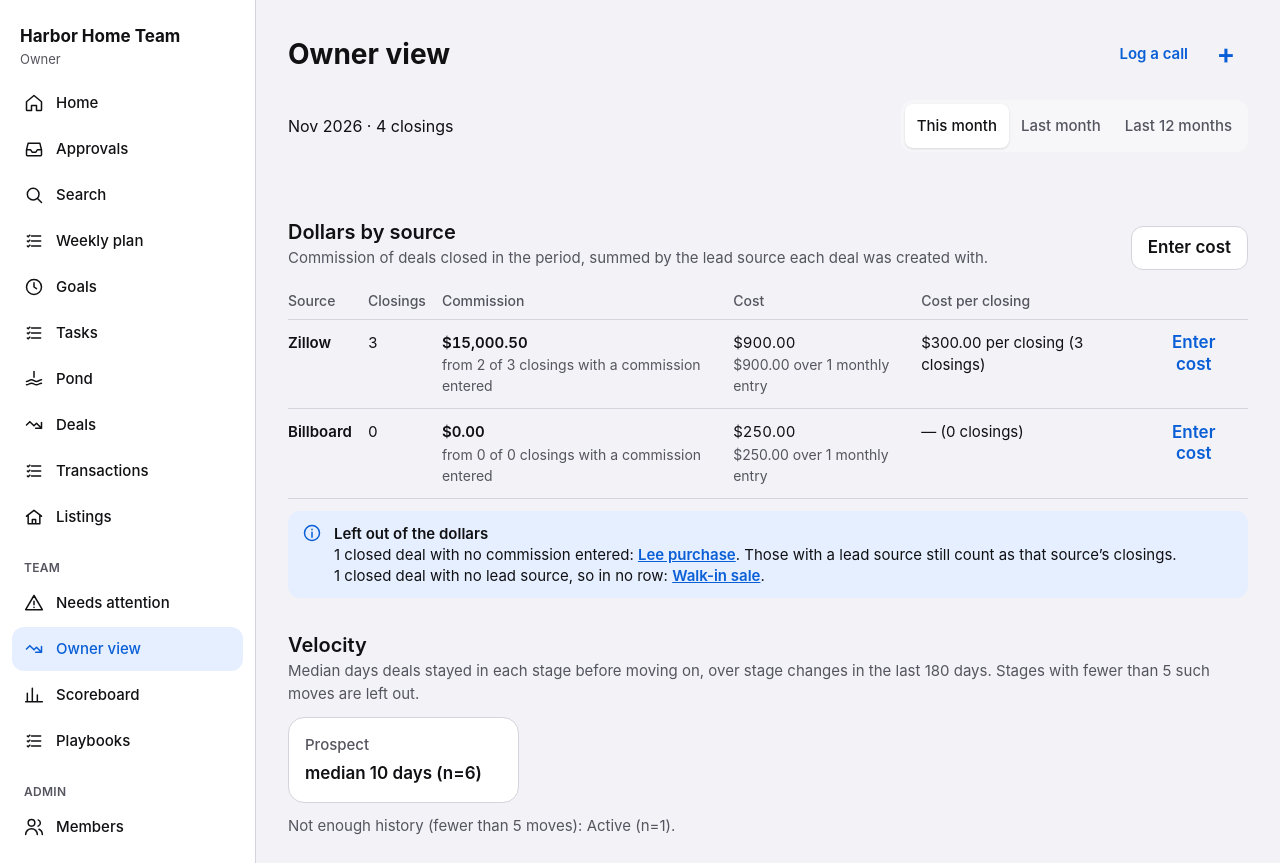
it: Owner view › R-OWNER-5: Enter cost saves the amount in cents for the chosen month and says so; a future month is said in words
Expected: the table is shown, [288, 282, 1248, 498]
Click the button with aria-label "Enter cost for Zillow" at (1194, 354), box [1140, 332, 1248, 376]
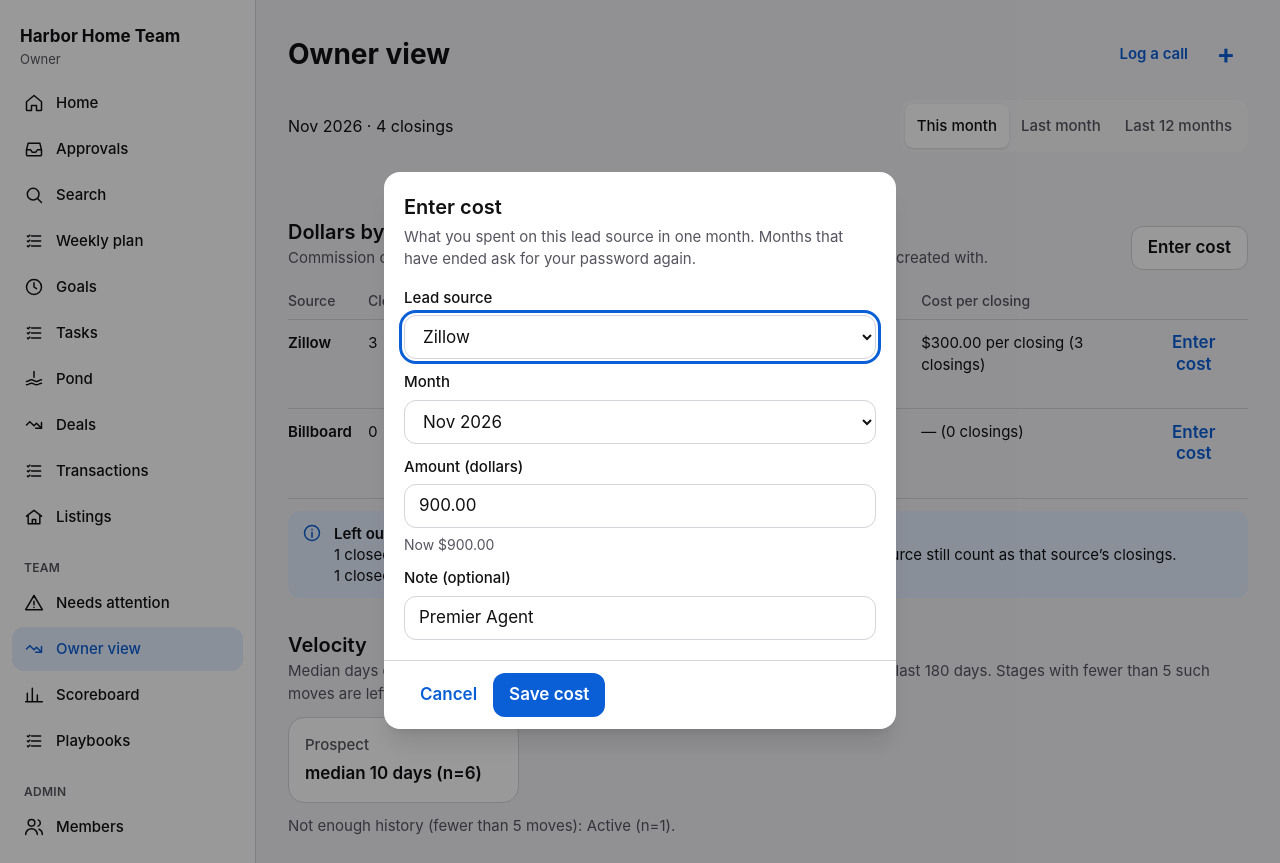
Expected: the field labelled "Amount (dollars)" holds "900.00"
Replace the text in the field labelled "Amount (dollars)" with "1,234.56" at (640, 506), box [404, 484, 876, 528]
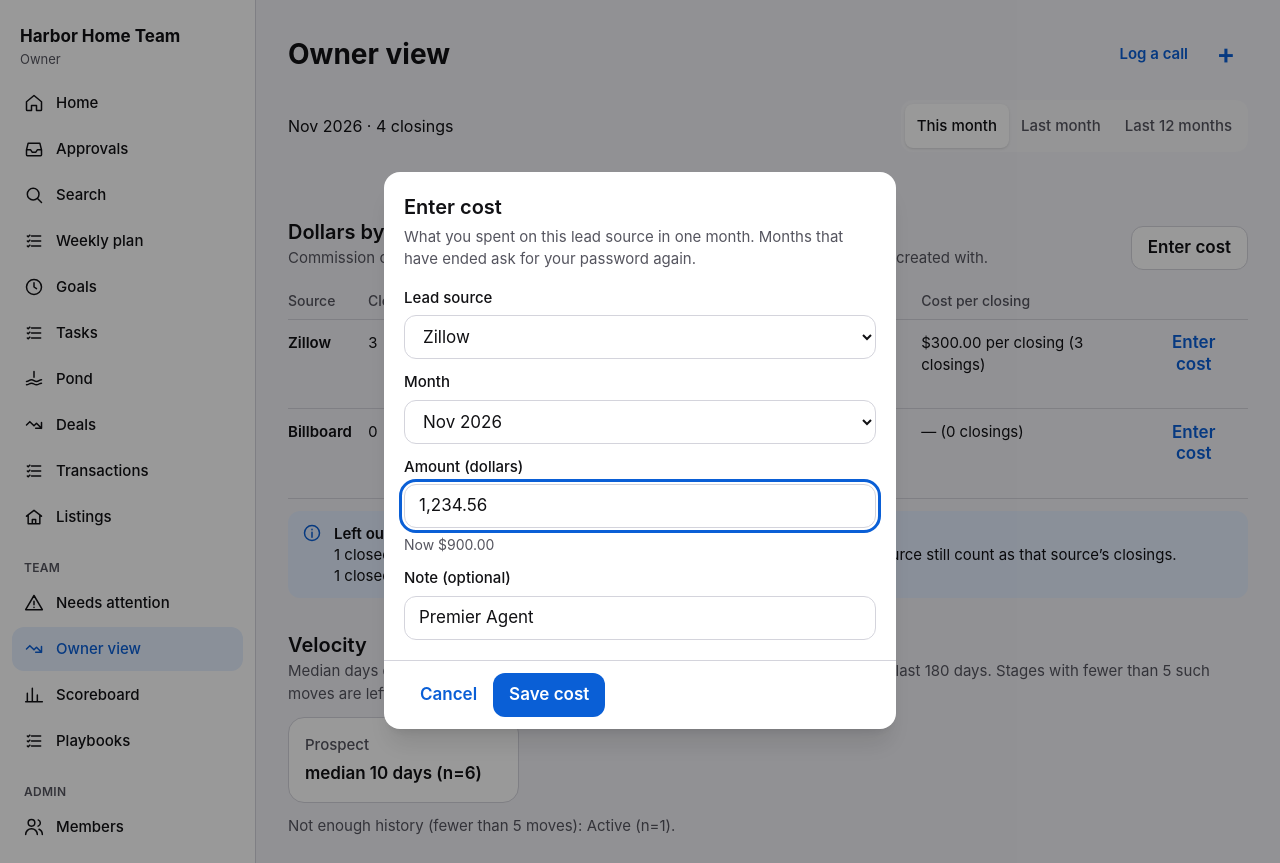
Click the button "Save cost" at (549, 694), box [493, 672, 605, 716]
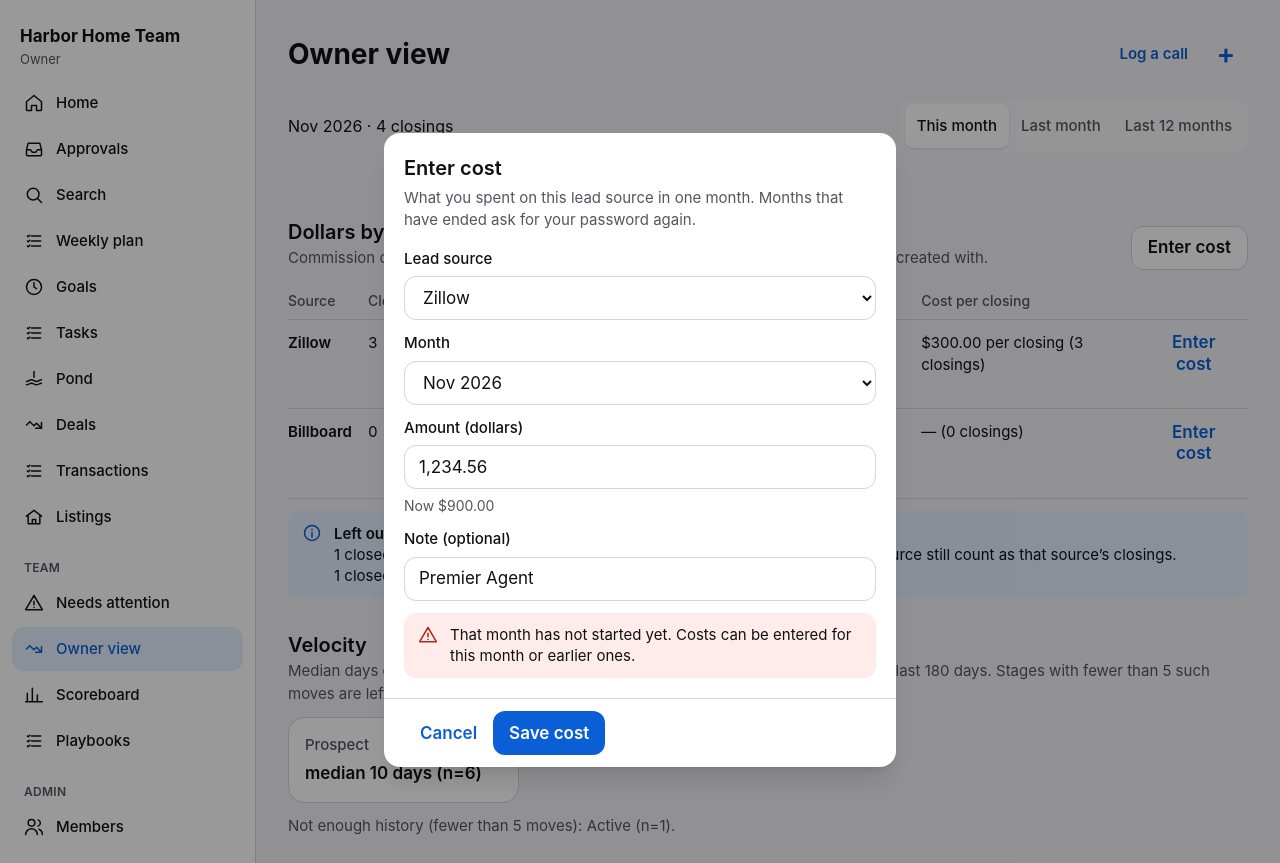
Expected: the text "That month has not started yet" is shown, [450, 625, 852, 664]
Click the button "Save cost" at (549, 733), box [493, 711, 605, 755]
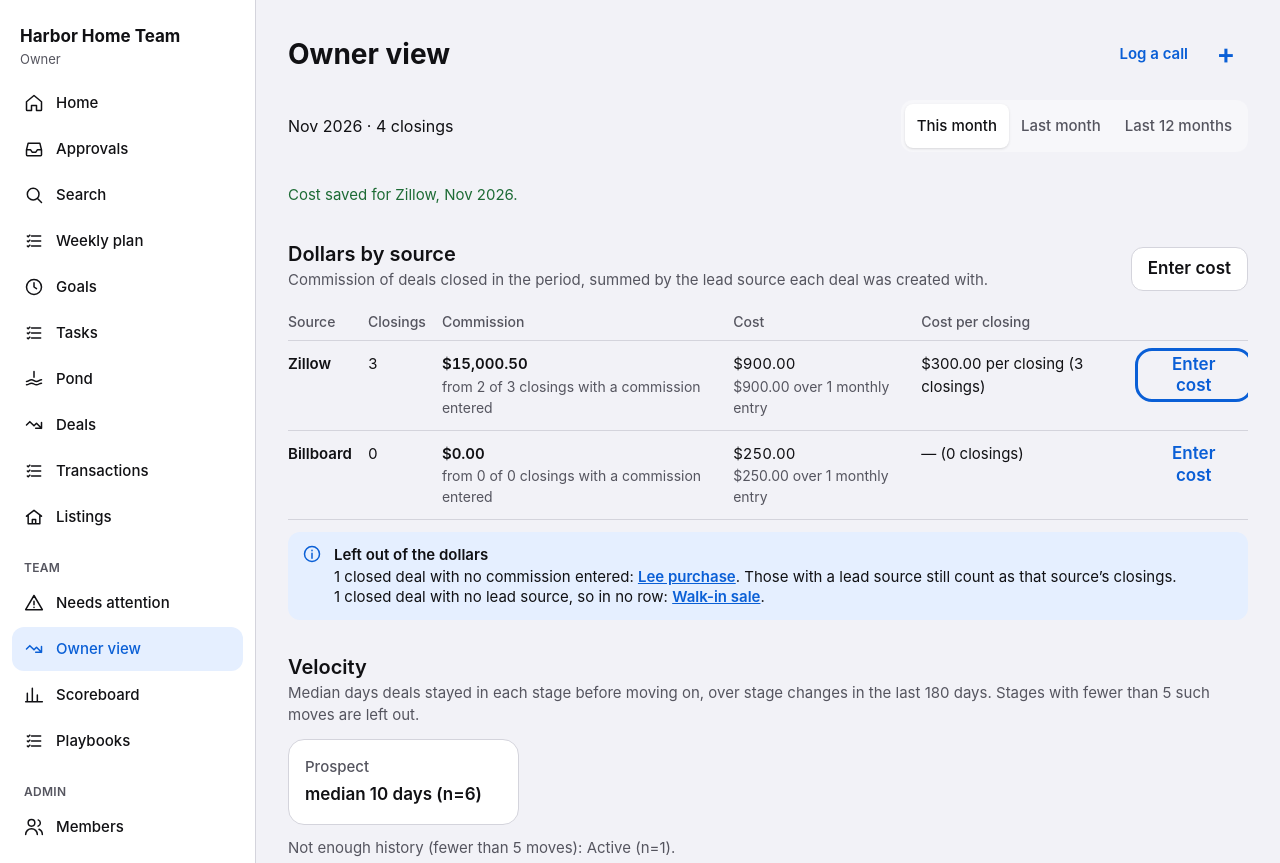
Expected: the dialog is gone
Expected: the text "Cost saved for Zillow, Nov 2026." is shown, [288, 185, 518, 204]
